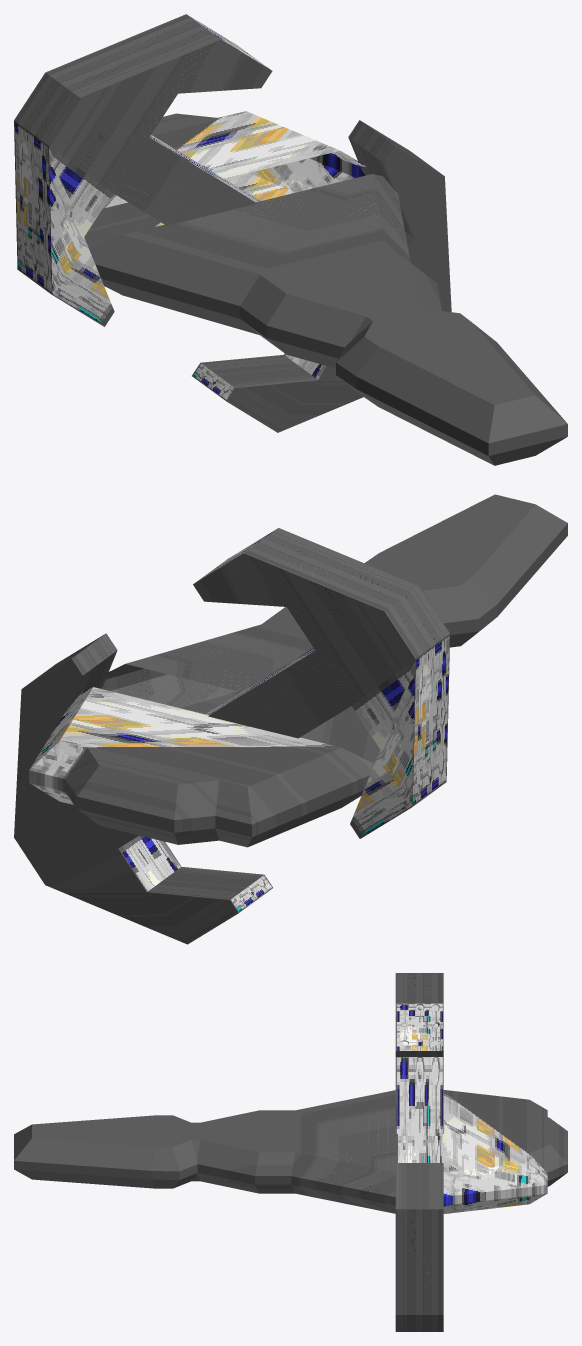
Rendered from aliensh6.obj.
The picture shows the model from 3 angles, top to bottom: view 1: azimuth 30°, elevation 25°; view 2: azimuth 150°, elevation 25°; view 3: azimuth 270°, elevation 25°; orthographic projection. The views are drawn at different scales.
Bounding box in the file's own units: 1.37 × 1.32 × 2.38.
1 material, 1 textured.
